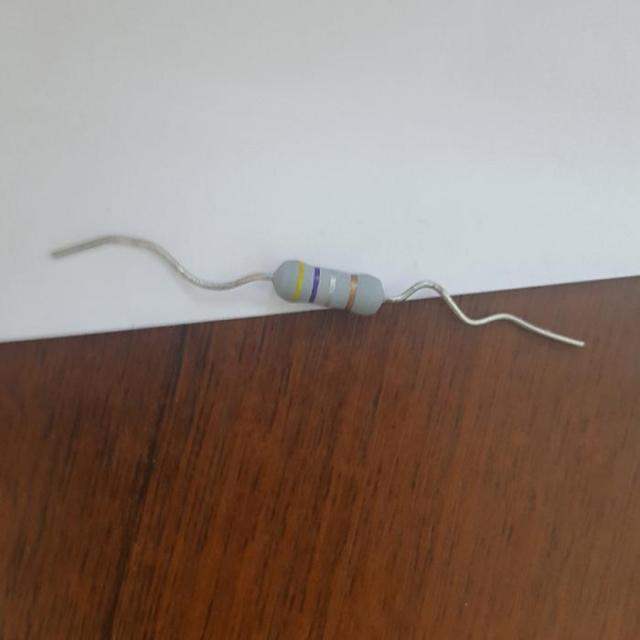Resistor: (272, 261, 385, 315)
gold: (345, 273, 358, 314)
purple: (309, 266, 320, 309)
silver: (325, 268, 337, 314)
yellow: (293, 263, 305, 306)
